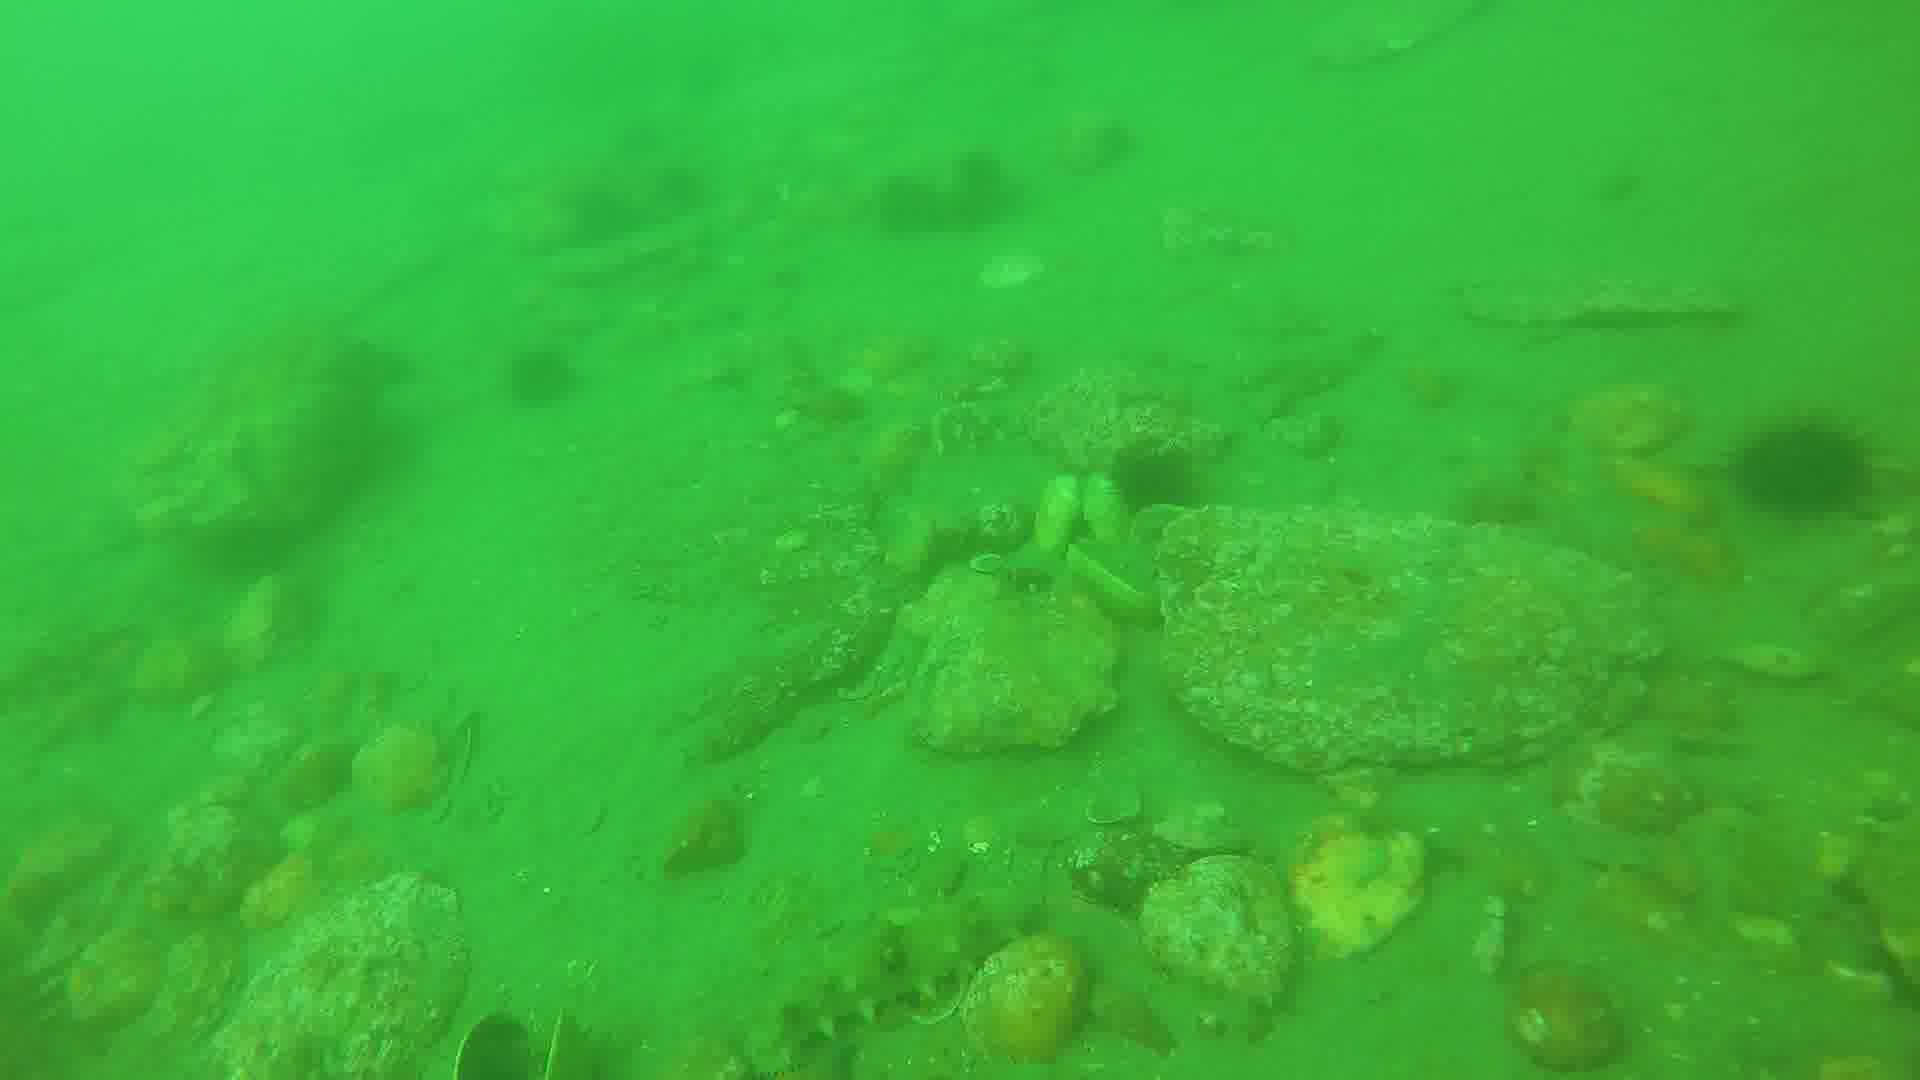echinus: (1734, 415, 1880, 530), (1112, 447, 1203, 527), (502, 342, 574, 409)
holothurian: (771, 887, 1046, 1050)
scallop: (339, 727, 454, 819), (452, 1010, 596, 1080)
